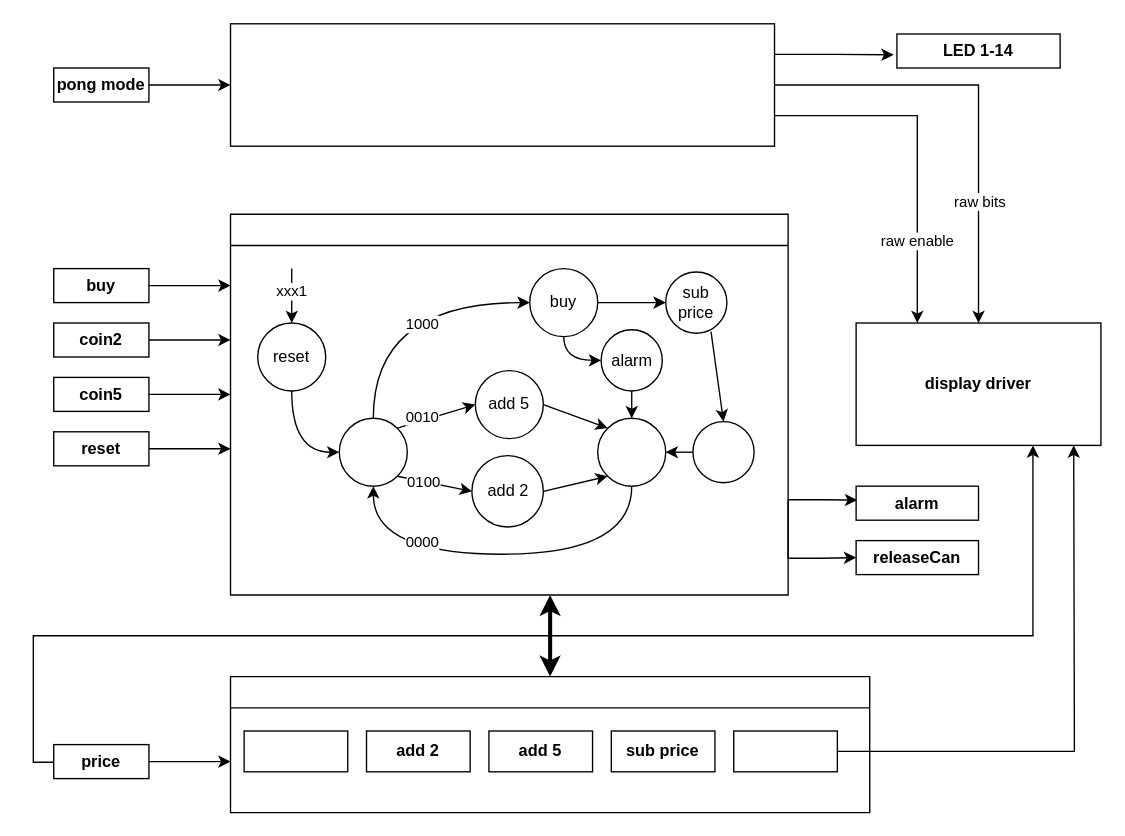
Some shapes in this 1125 by 836 pixel diagram are drawn without their labels. Here are the shapes that lost their labels. From the top down, the box of each, then its label:
(229, 22, 775, 146): pong
(229, 213, 788, 595): FSM
(338, 417, 407, 486): ready
(596, 417, 666, 486): button check
(692, 420, 754, 483): release
(243, 730, 348, 772): buy check
(229, 675, 870, 813): Datapath
(732, 730, 837, 772): sum
